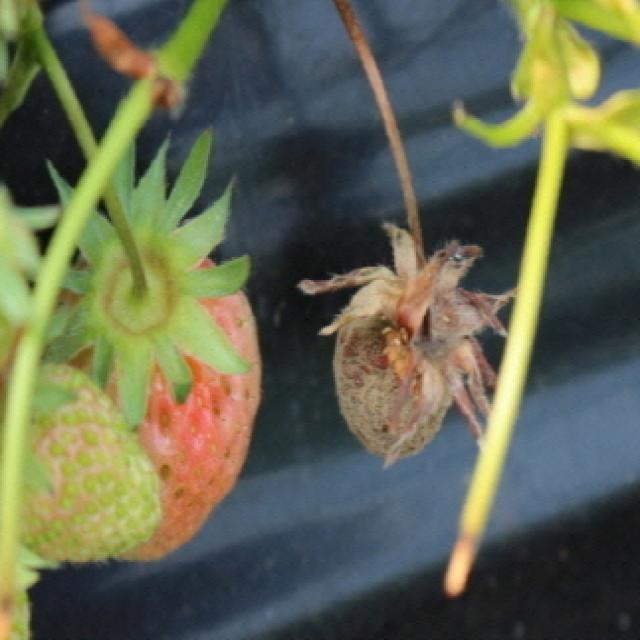Gray Mold: (296, 221, 522, 465)
